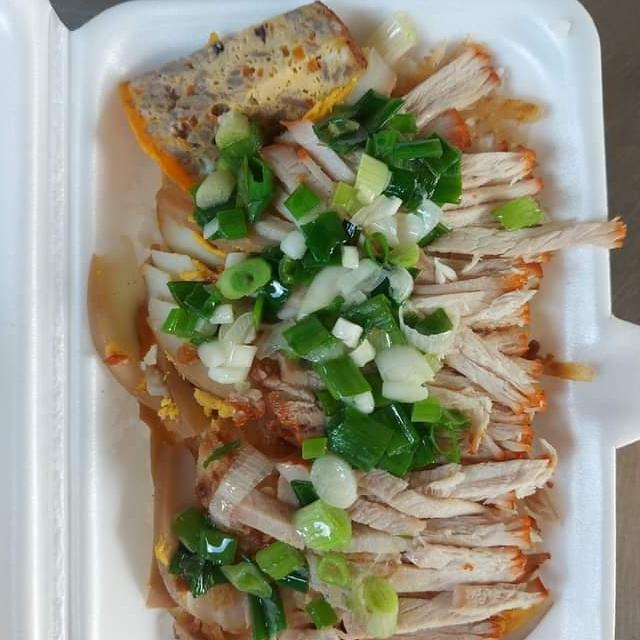suon: (251, 31, 569, 640)
trung: (114, 0, 371, 205), (141, 185, 281, 424)
